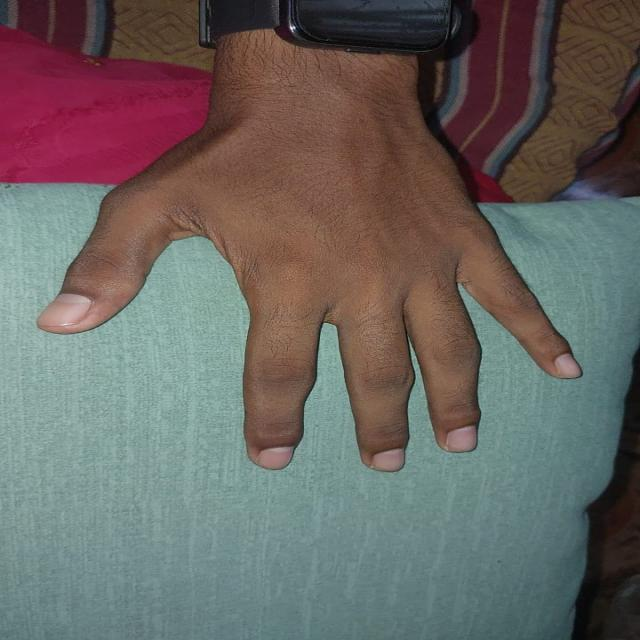nail: (37, 294, 91, 326), (365, 448, 404, 472), (253, 448, 293, 469), (444, 426, 474, 452), (556, 353, 581, 378)
